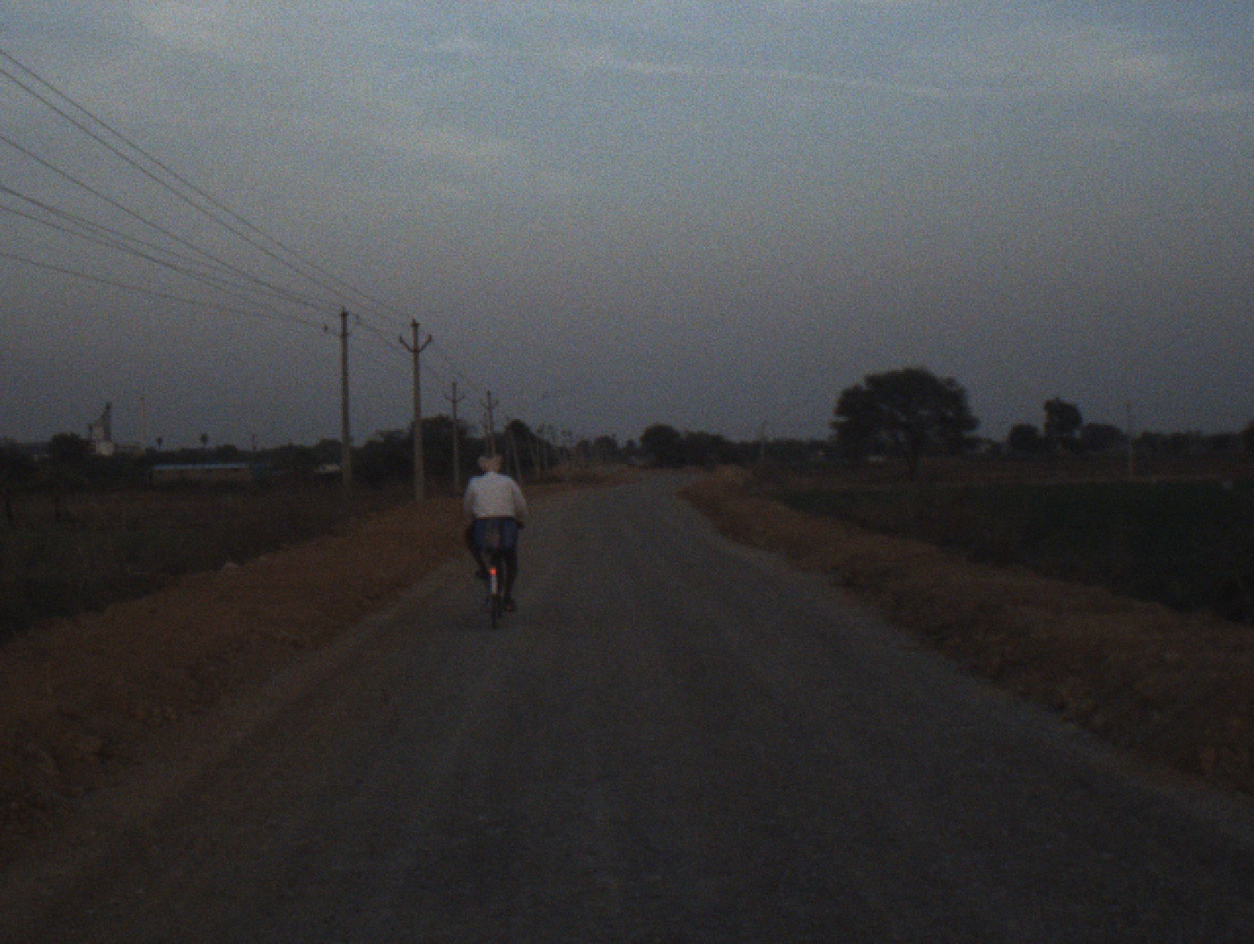bicycle: (470, 520, 518, 633)
rider: (457, 450, 524, 622)
